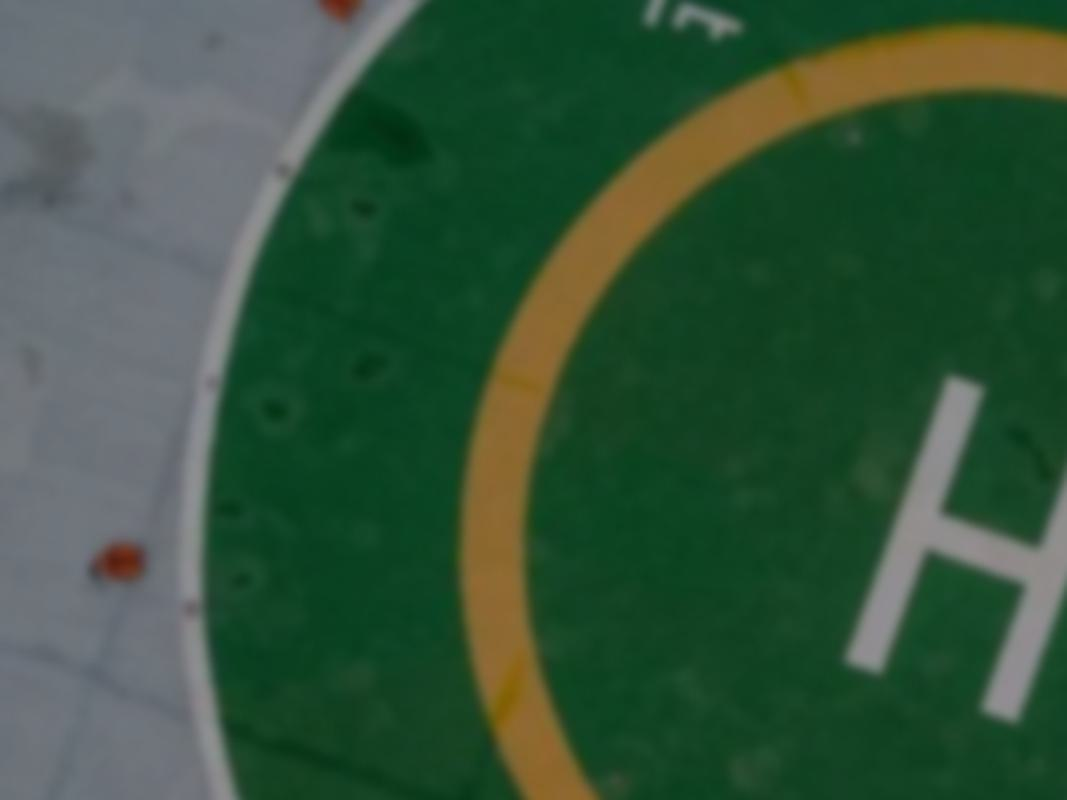Apron: (433, 26, 1067, 800)
